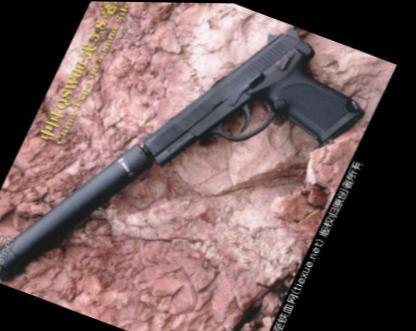pistol: (118, 2, 397, 226)
